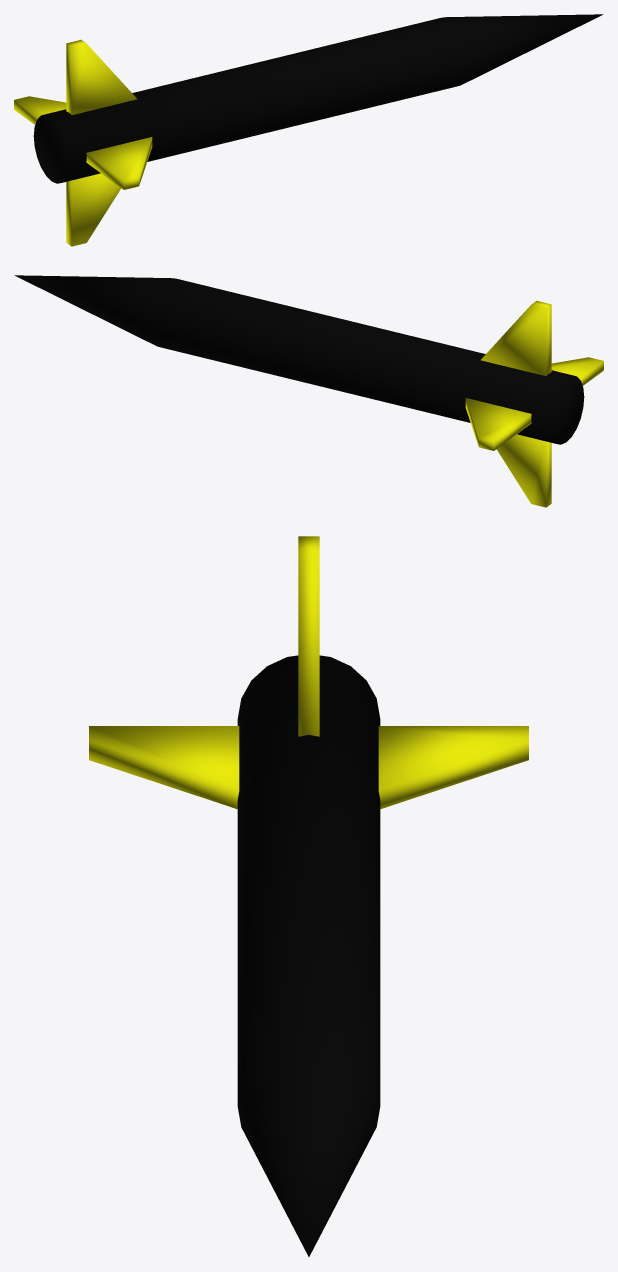
File: missile.fbx
The picture shows the model from 3 angles, top to bottom: view 1: azimuth 30°, elevation 25°; view 2: azimuth 150°, elevation 25°; view 3: azimuth 270°, elevation 25°; orthographic projection. The views are drawn at different scales.
Visible parts, largest first — view 1: Mesh_003; view 2: Mesh_003; view 3: Mesh_003.
Part boxes in pixels (x1,y1,x2,y2): Mesh_003: (14,14,603,246); Mesh_003: (14,275,603,507); Mesh_003: (89,536,528,1256).
Size of the model in its own units: 0.4586 by 0.1582 by 0.1582.
